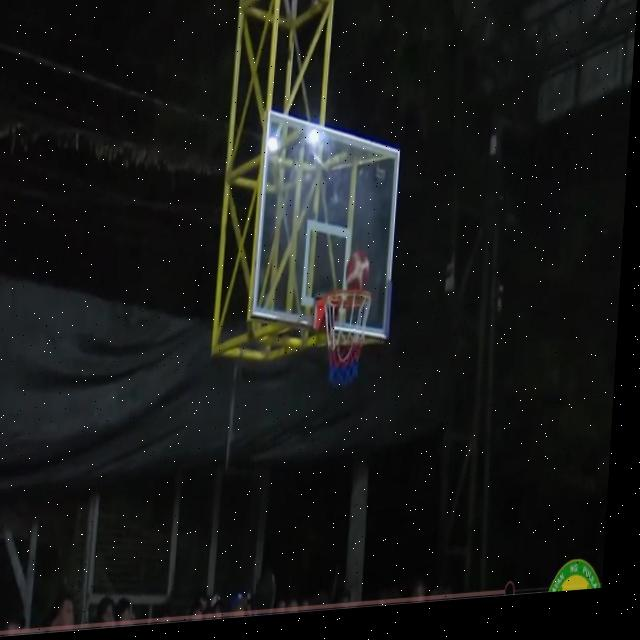basketball: (345, 252, 372, 302)
hoop: (314, 279, 374, 401)
